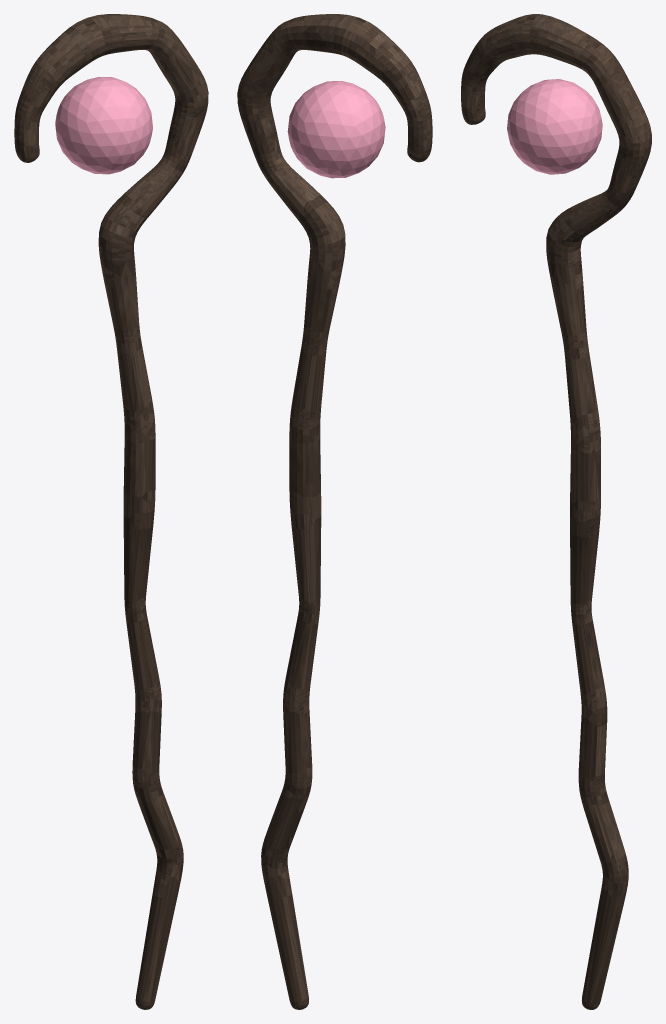
File: tue.obj
The picture shows the model from 3 angles, left to right: view 1: azimuth 30°, elevation 25°; view 2: azimuth 150°, elevation 25°; view 3: azimuth 330°, elevation 25°; orthographic projection. The views are drawn at different scales.
Parts seen in each view (by area): view 1: Staff_stick, Staff_orb; view 2: Staff_stick, Staff_orb; view 3: Staff_stick, Staff_orb.
Boxes of the visible parts, x1,y1,x2,y2 form: Staff_stick: (14, 14, 208, 1009); Staff_orb: (55, 77, 152, 174); Staff_stick: (237, 14, 432, 1009); Staff_orb: (287, 81, 385, 178); Staff_stick: (461, 14, 651, 1009); Staff_orb: (507, 79, 602, 174).
Bounding box in the file's own units: 0.2413 × 1.21 × 0.108.
Materials: 2 (2 with a texture image).
